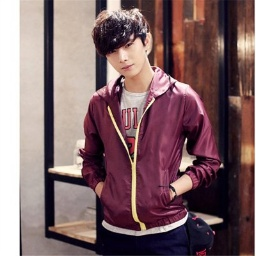face: (91, 5, 158, 79)
